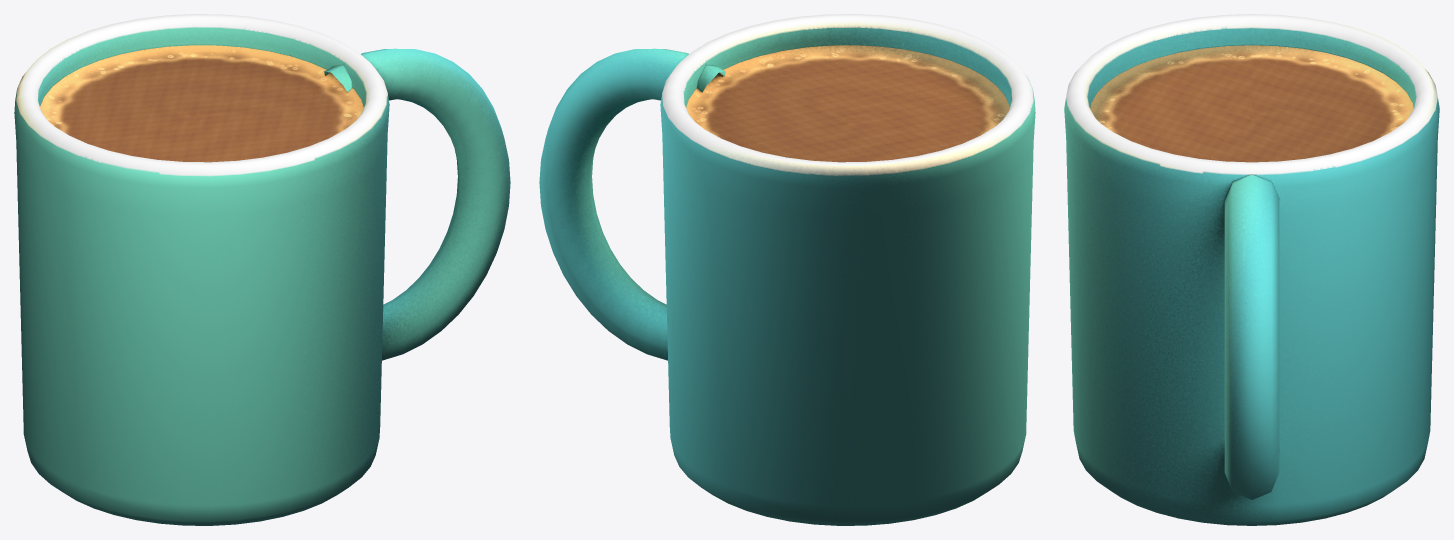
The model's file is mug.glb.
The picture shows the model from 3 angles, left to right: view 1: azimuth 30°, elevation 25°; view 2: azimuth 150°, elevation 25°; view 3: azimuth 270°, elevation 25°; orthographic projection.
Parts seen in each view (by area): view 1: Mug; view 2: Mug; view 3: Mug.
Boxes of the visible parts, x1=… form: Mug: x1=14, y1=14, x2=510, y2=525; Mug: x1=539, y1=14, x2=1035, y2=525; Mug: x1=1064, y1=14, x2=1439, y2=525.
Size of the model in its own units: 0.144 by 0.109 by 0.1.
1 material, 1 textured.
